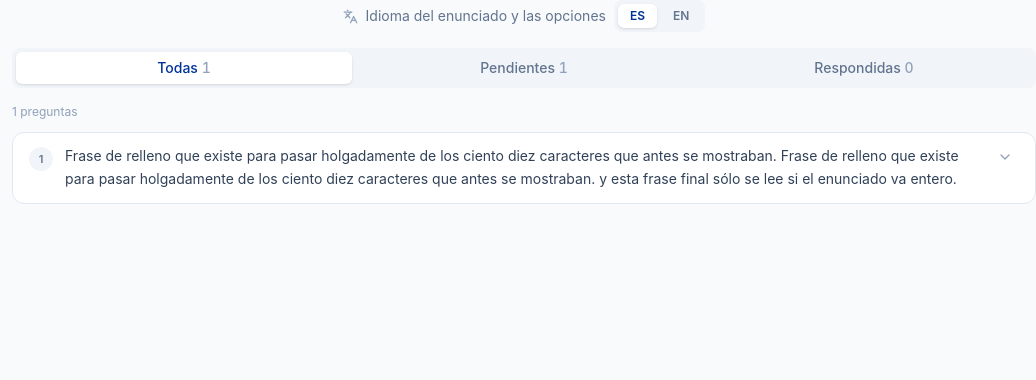
cabecera › al desplegar no repite el enunciado: sólo aparecen las respuestas
Click the button named "Abrir la pregunta": (1005, 157) top-left (991, 143), bottom-right (1019, 171)
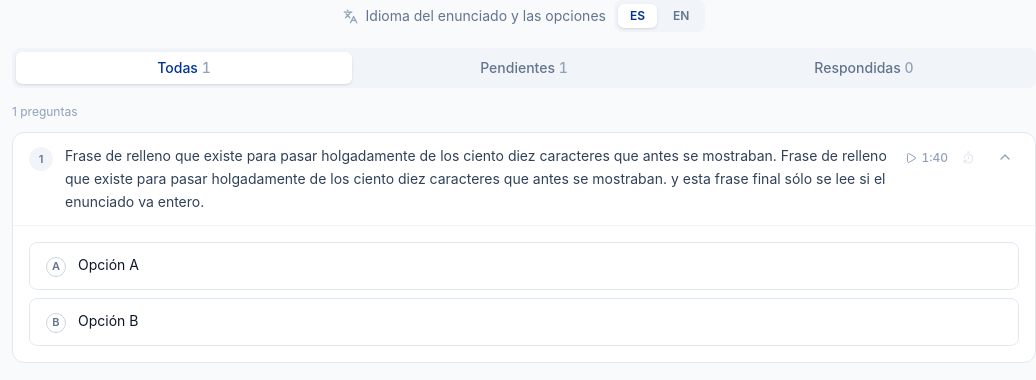
Expected: the text "y esta frase final sólo se lee si el enunciado va entero" is shown once, top-left (65, 145), bottom-right (887, 213)
Expected: the text "Opción A" is shown, top-left (78, 256), bottom-right (139, 273)
